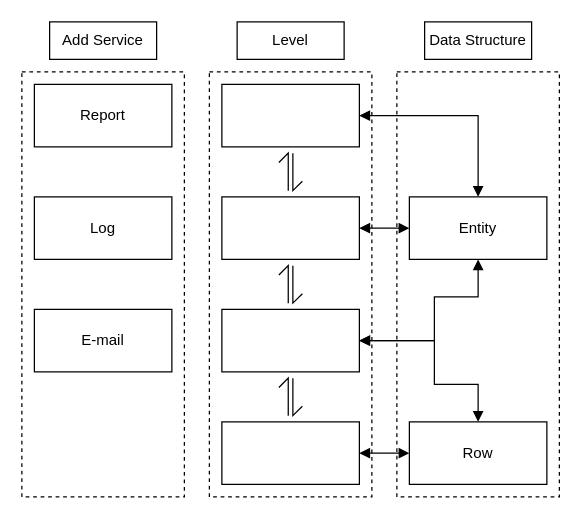
The diagram is 581 pixels wide and 519 high, and some of its shapes have lost their labels. Here are the shapes that lost their labels. From the top down, the box of each, then its label:
(221, 83, 359, 147): UI
(221, 196, 359, 259): Service
(221, 308, 359, 372): Repo
(221, 421, 359, 484): Database
